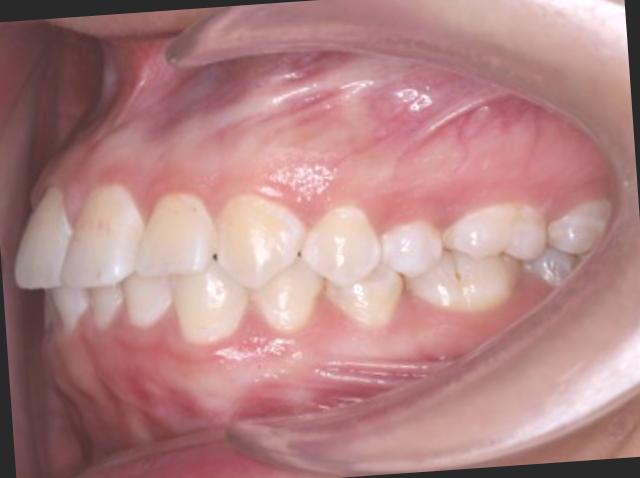canine class I: (161, 164, 329, 355)
molar class III 1/4: (396, 189, 555, 327)
